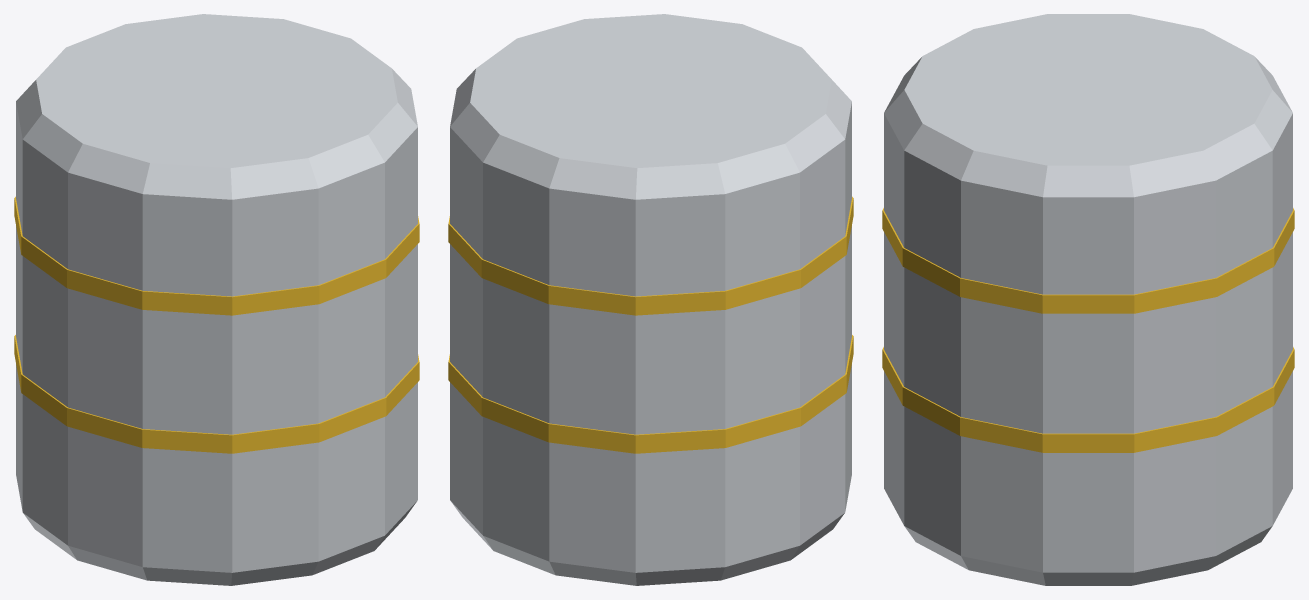
The model's file is big_can.glb.
3 views of the same model, side by side, from view 1: azimuth 30°, elevation 25°; view 2: azimuth 150°, elevation 25°; view 3: azimuth 270°, elevation 25° (orthographic).
Parts seen in each view (by area): view 1: big_can; view 2: big_can; view 3: big_can.
Boxes of the visible parts, left/top/right/bottom form: big_can: left=14, top=14, right=419, bottom=585; big_can: left=448, top=14, right=853, bottom=585; big_can: left=882, top=14, right=1294, bottom=585.
Size of the model in its own units: 1.57 by 1.8 by 1.61.
